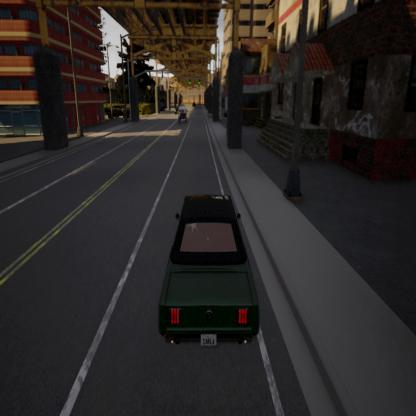Cars: (154, 187, 265, 349), (177, 103, 188, 125), (174, 102, 181, 116)
